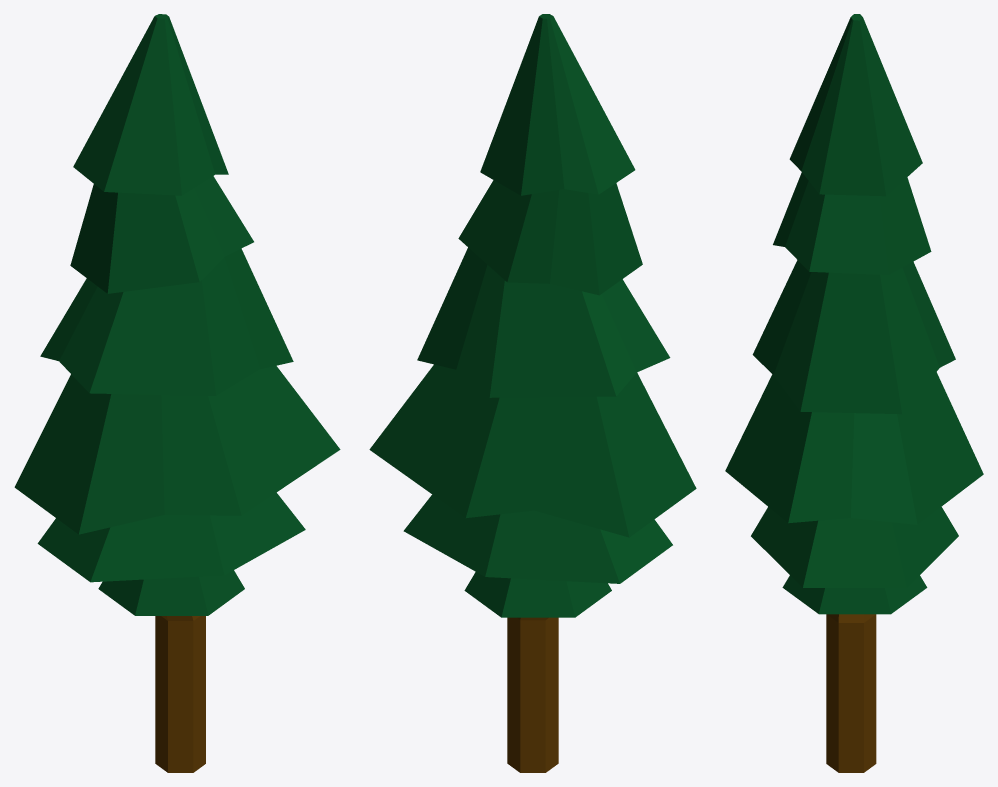
File: Tree_1.fbx
The picture shows the model from 3 angles, left to right: view 1: azimuth 30°, elevation 25°; view 2: azimuth 150°, elevation 25°; view 3: azimuth 270°, elevation 25°; orthographic projection.
Visible parts, largest first — view 1: ARBOL1; view 2: ARBOL1; view 3: ARBOL1.
Part boxes in pixels (left/top/right/bottom): ARBOL1: left=14, top=14, right=340, bottom=772; ARBOL1: left=369, top=14, right=696, bottom=772; ARBOL1: left=725, top=14, right=983, bottom=772.
Size of the model in its own units: 314 by 845 by 268.
